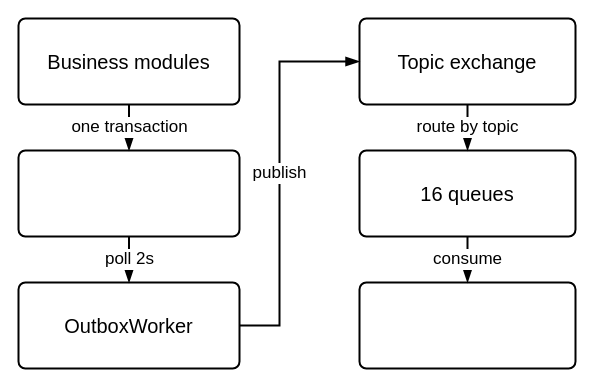
Image size: 593x386. Some labels were removed from this diagram. The centre of each missing label's shape, as x and y in pixels:
"Consumer modules" belongs at point (467, 325).
"outbox_records" belongs at point (128, 193).
